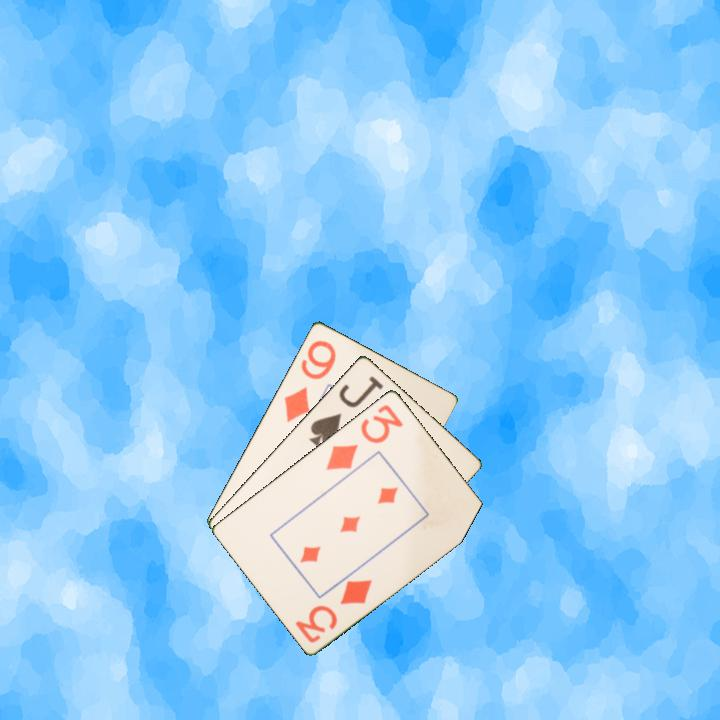3d: (322, 400, 406, 473), (292, 575, 375, 646)
9d: (280, 336, 339, 425)
Js: (305, 372, 386, 450)
